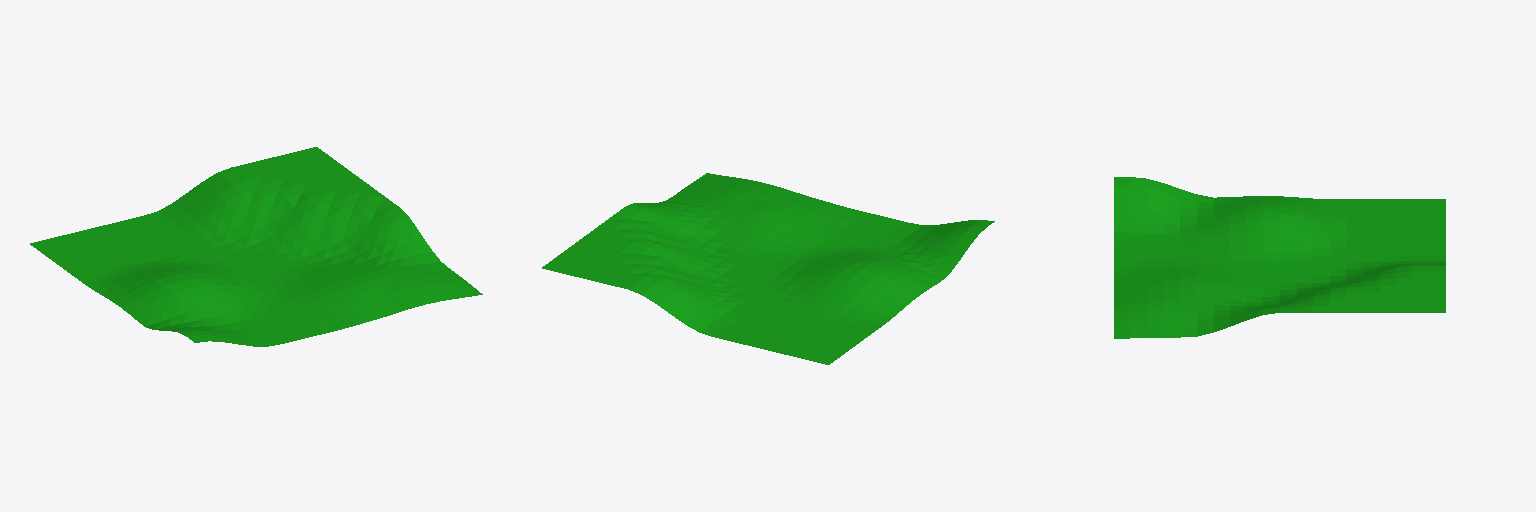
The model's file is ground.obj.
3 views of the same model, side by side, from view 1: azimuth 30°, elevation 25°; view 2: azimuth 150°, elevation 25°; view 3: azimuth 270°, elevation 25° (orthographic).
Parts seen in each view (by area): view 1: Plane; view 2: Plane; view 3: Plane.
Boxes of the visible parts, box(x1,y1,x2,y2) form: Plane: box(30, 147, 482, 346); Plane: box(542, 173, 994, 364); Plane: box(1114, 177, 1445, 338).
Bounding box in the file's own units: 10 × 0.888 × 10.